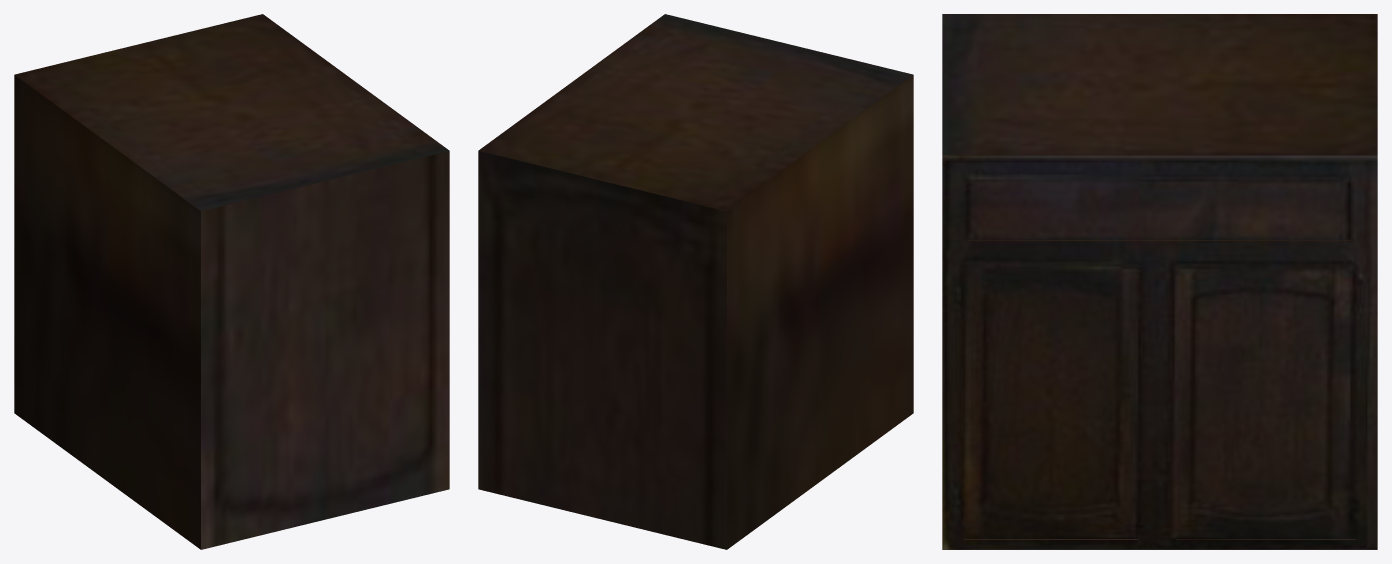
Rendered from counter.fbx.
3 renders of one model, left to right at view 1: azimuth 30°, elevation 25°; view 2: azimuth 150°, elevation 25°; view 3: azimuth 270°, elevation 25°, orthographic. The views are drawn at different scales.
Parts seen in each view (by area): view 1: Cube; view 2: Cube; view 3: Cube, Cube.001, Cube.002, Cube.003.
Part boxes in pixels (x1,y1,x2,y2): Cube: (14, 14, 449, 549); Cube: (478, 14, 913, 549); Cube: (942, 14, 1377, 549); Cube.001: (1176, 260, 1355, 538); Cube.002: (964, 260, 1138, 538); Cube.003: (968, 182, 1351, 239).
Bounding box in the file's own units: 154 × 200 × 200.
